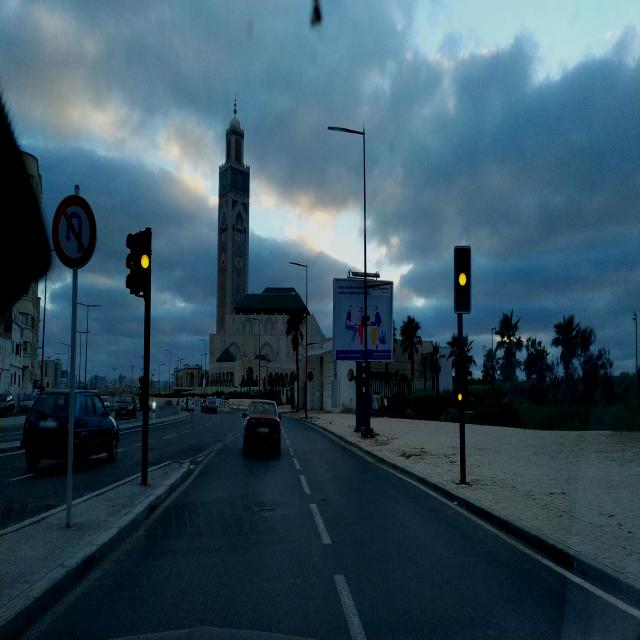car: (21, 388, 120, 471), (242, 398, 281, 456), (114, 396, 138, 419), (19, 388, 41, 412), (0, 396, 15, 416), (204, 396, 218, 414), (180, 396, 194, 414)
